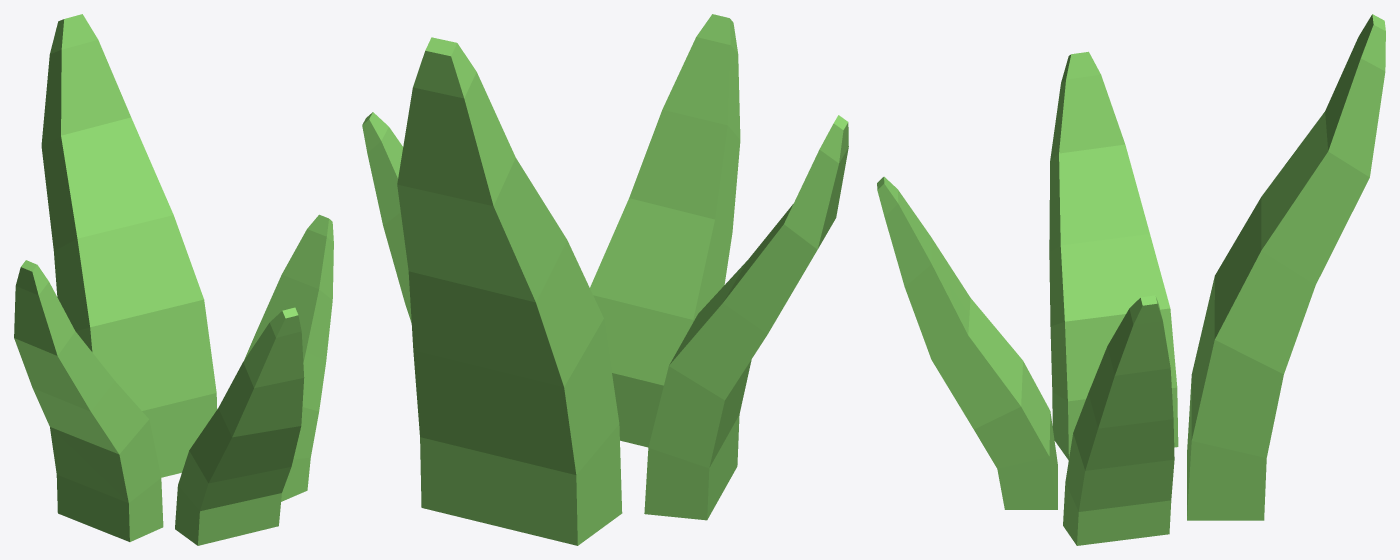
File: grass3.glb
3 views of the same model, side by side, from view 1: azimuth 30°, elevation 25°; view 2: azimuth 150°, elevation 25°; view 3: azimuth 270°, elevation 25° (orthographic). The views are drawn at different scales.
Visible parts, largest first — view 1: grass3.001; view 2: grass3.001; view 3: grass3.001.
Boxes of the visible parts, x1,y1,x2,y2 form: grass3.001: [14, 14, 333, 545]; grass3.001: [362, 14, 848, 545]; grass3.001: [877, 14, 1385, 545].
Bounding box in the file's own units: 0.3216 × 0.3698 × 0.3649.
